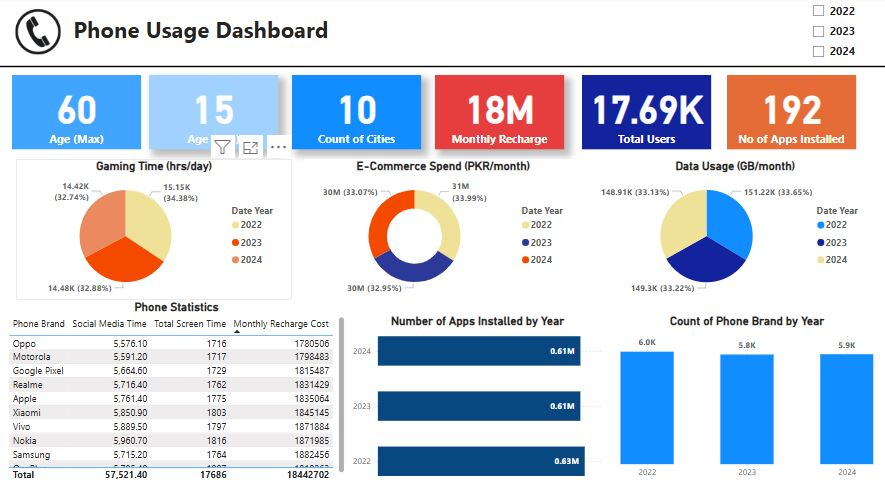

Layout of this report page (visuals, bound fields, positions):
{"tool":"powerbi","page":{"name":"Page 1","canvas":[1280,720],"ordinal":0},"visuals":[{"type":"card","fields":{"Values":["Max(phone_usage_pakistan.Age)"]},"box":[20.2,112.3,185.8,106.6],"z":0},{"type":"card","fields":{"Values":["Min(phone_usage_pakistan.Age)"]},"box":[217.4,112.3,185.8,106.6],"z":1000},{"type":"card","fields":{"Values":["Count(phone_usage_pakistan.Location)"]},"box":[423.4,112.3,185.8,106.6],"z":2000},{"type":"card","fields":{"Values":["Sum(phone_usage_pakistan.Monthly Recharge Cost (PKR))"]},"box":[629.3,112.3,185.8,106.6],"z":3000},{"type":"slicer","fields":{"Values":["phone_usage_pakistan.Date.Variation.Date Hierarchy.Year"]},"box":[1160.6,0,105.1,100.8],"z":4000},{"type":"card","fields":{"Values":["CountNonNull(phone_usage_pakistan.User ID)"]},"box":[841,112.3,185.8,106.6],"z":5000},{"type":"card","fields":{"Values":["Count(phone_usage_pakistan.Number of Apps Installed)"]},"box":[1049.8,112.3,185.8,106.6],"z":6000},{"type":"image","box":[20.2,11.5,74.9,76.3],"z":7000},{"type":"textbox","box":[95,18.7,394.6,63.4],"z":8000},{"type":"clusteredColumnChart","fields":{"Category":["phone_usage_pakistan.Date.Variation.Date Hierarchy.Year"],"Y":["CountNonNull(phone_usage_pakistan.Phone Brand)"]},"box":[891.4,456.5,374.4,246.2],"z":9000},{"type":"clusteredBarChart","title":"Number of Apps Installed by Year","fields":{"Category":["phone_usage_pakistan.Date.Variation.Date Hierarchy.Year"],"Y":["Sum(phone_usage_pakistan.Number of Apps Installed)"]},"box":[504,456.5,373,246.2],"z":10000},{"type":"shape","box":[0,76.3,1280.2,47.5],"z":11000},{"type":"tableEx","title":"Phone Statistics","fields":{"Values":["phone_usage_pakistan.Phone Brand","Sum(phone_usage_pakistan.Social Media Time (hrs/day))","CountNonNull(phone_usage_pakistan.Screen Time (hrs/day))","Sum(phone_usage_pakistan.Monthly Recharge Cost (PKR))"]},"box":[10.1,436.3,493.9,266.4],"z":12000},{"type":"pieChart","title":"Data Usage (GB/month)","fields":{"Category":["phone_usage_pakistan.Date.Variation.Date Hierarchy.Year"],"Y":["Sum(phone_usage_pakistan.Data Usage (GB/month))"]},"box":[856.8,233.3,409,203],"z":13000},{"type":"donutChart","title":"E-Commerce Spend (PKR/month)","fields":{"Category":["phone_usage_pakistan.Date.Variation.Date Hierarchy.Year"],"Y":["Sum(phone_usage_pakistan.E-commerce Spend (PKR/month))"]},"box":[440.6,233.3,400.3,203],"z":14000},{"type":"pieChart","title":"Gaming Time (hrs/day)","fields":{"Y":["Sum(phone_usage_pakistan.Gaming Time (hrs/day))"],"Category":["phone_usage_pakistan.Date.Variation.Date Hierarchy.Year"]},"box":[25.9,233.3,397.4,203],"z":15000}]}

Visuals, with their boxes in screenshot pixels (x1, y1, x2, y2), scaled from the page's 1280x720 canvas onto the 885x488 screenshot:
card - Max(phone_usage_pakistan.Age): select_region(14, 76, 142, 148)
card - Min(phone_usage_pakistan.Age): select_region(150, 76, 279, 148)
card - Count(phone_usage_pakistan.Location): select_region(293, 76, 421, 148)
card - Sum(phone_usage_pakistan.Monthly Recharge Cost (PKR)): select_region(435, 76, 564, 148)
slicer - phone_usage_pakistan.Date.Variation.Date Hierarchy.Year: select_region(802, 0, 875, 68)
card - CountNonNull(phone_usage_pakistan.User ID): select_region(581, 76, 710, 148)
card - Count(phone_usage_pakistan.Number of Apps Installed): select_region(726, 76, 854, 148)
image: select_region(14, 8, 66, 60)
textbox: select_region(66, 13, 339, 56)
clusteredColumnChart - phone_usage_pakistan.Date.Variation.Date Hierarchy.Year x CountNonNull(phone_usage_pakistan.Phone Brand): select_region(616, 309, 875, 476)
"Number of Apps Installed by Year" clusteredBarChart: select_region(348, 309, 606, 476)
shape: select_region(0, 52, 884, 84)
"Phone Statistics" tableEx: select_region(7, 296, 348, 476)
"Data Usage (GB/month)" pieChart: select_region(592, 158, 875, 296)
"E-Commerce Spend (PKR/month)" donutChart: select_region(305, 158, 581, 296)
"Gaming Time (hrs/day)" pieChart: select_region(18, 158, 293, 296)
